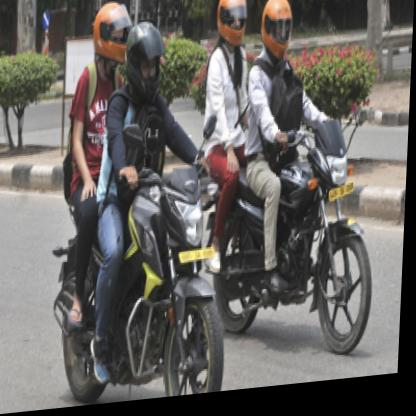With Helmet: (123, 16, 170, 106), (256, 0, 298, 77)
